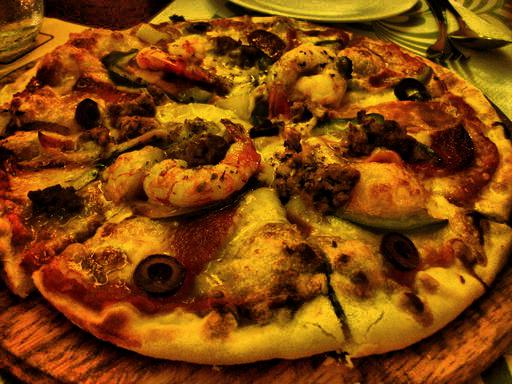pizza: (2, 22, 510, 345)
